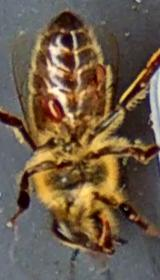varroa_mite: (25, 84, 74, 136)
